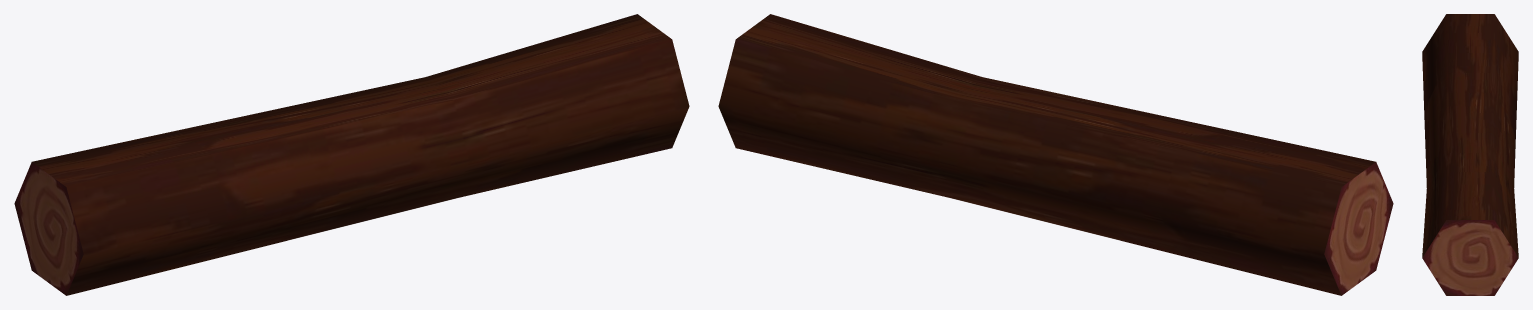
Rendered from SM_PROP_treetrunk_02.glb.
3 renders of one model, left to right at view 1: azimuth 30°, elevation 25°; view 2: azimuth 150°, elevation 25°; view 3: azimuth 270°, elevation 25°, orthographic. The views are drawn at different scales.
Parts seen in each view (by area): view 1: SM_PROP_treetrunk_02_EXPORT; view 2: SM_PROP_treetrunk_02_EXPORT; view 3: SM_PROP_treetrunk_02_EXPORT.
Part boxes in pixels (box(x1,y1,x2,y2)): SM_PROP_treetrunk_02_EXPORT: box(14, 14, 689, 295); SM_PROP_treetrunk_02_EXPORT: box(718, 14, 1393, 295); SM_PROP_treetrunk_02_EXPORT: box(1422, 14, 1518, 295).
Size of the model in its own units: 4.59 by 0.7884 by 0.9104.
Materials: 2 (2 with a texture image).
